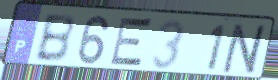1: (206, 23, 228, 72)
3: (150, 17, 189, 73)
6: (76, 14, 110, 67)
B: (32, 13, 76, 65)
E: (107, 14, 155, 71)
N: (219, 22, 272, 76)
